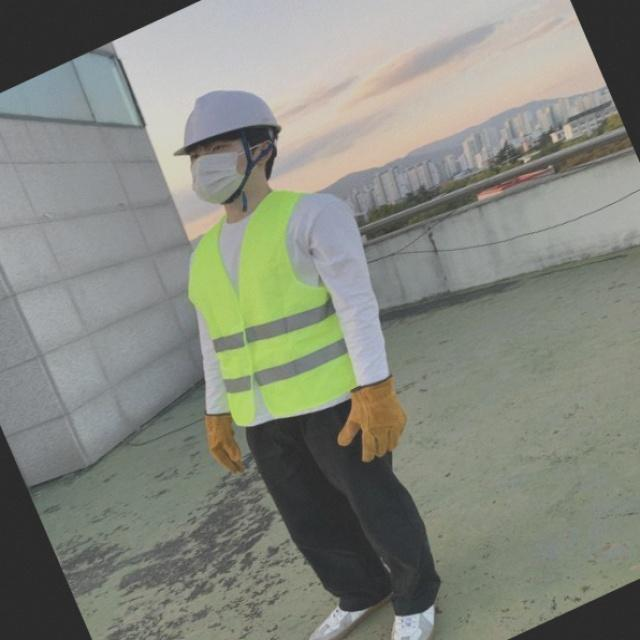helmet: (174, 90, 279, 160)
safety_vest: (182, 187, 368, 418)
